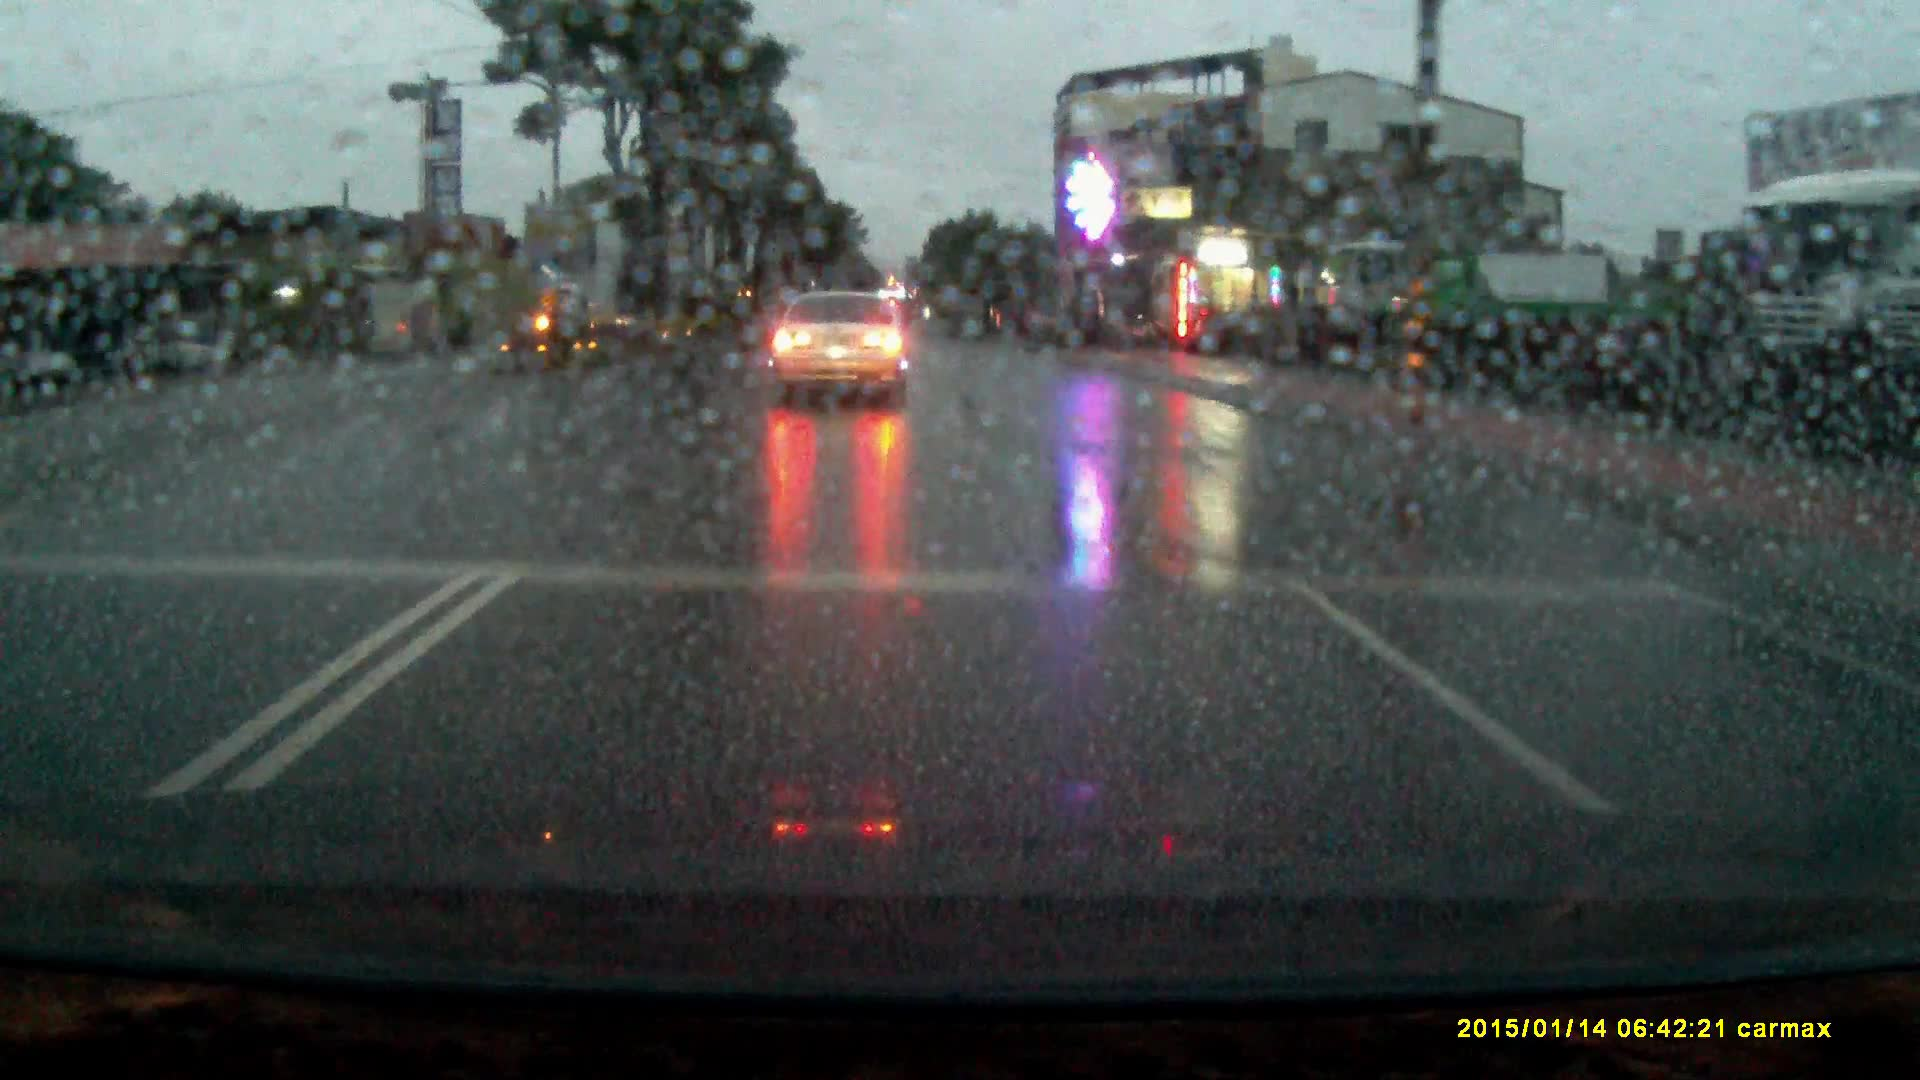vehicle: (1729, 169, 1920, 436), (1404, 251, 1615, 349), (774, 289, 918, 413), (1313, 233, 1432, 352), (545, 272, 609, 339)
